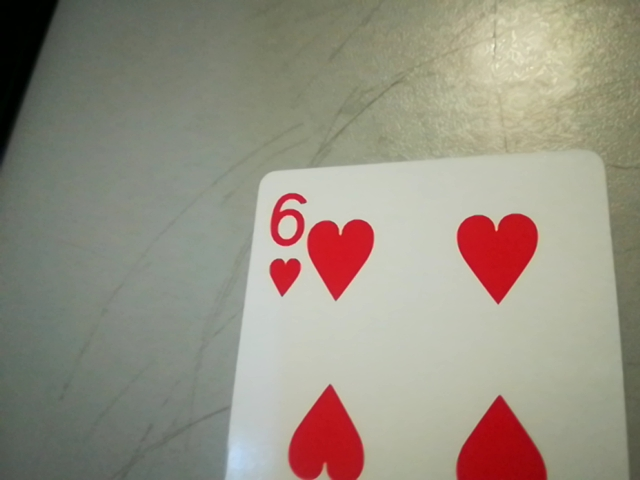hx 6: (257, 187, 312, 302)
